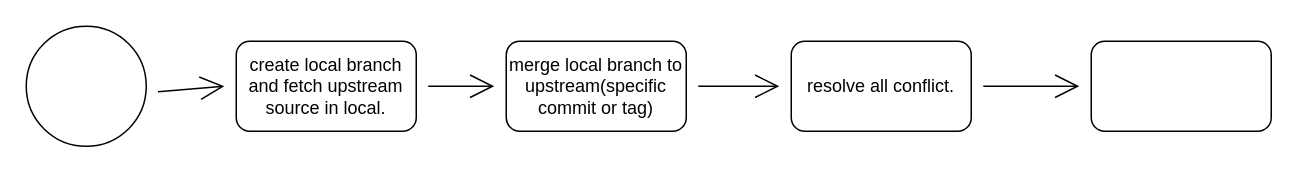
Image size: 1298x173. Some labels were removed from this diagram. Here are the shapes that lost their labels. From the top down, the centre of each, then its label:
At point 85,85: "Clone kernel source code.".
At point 1180,85: "Build, resolve error if needed and test.".
